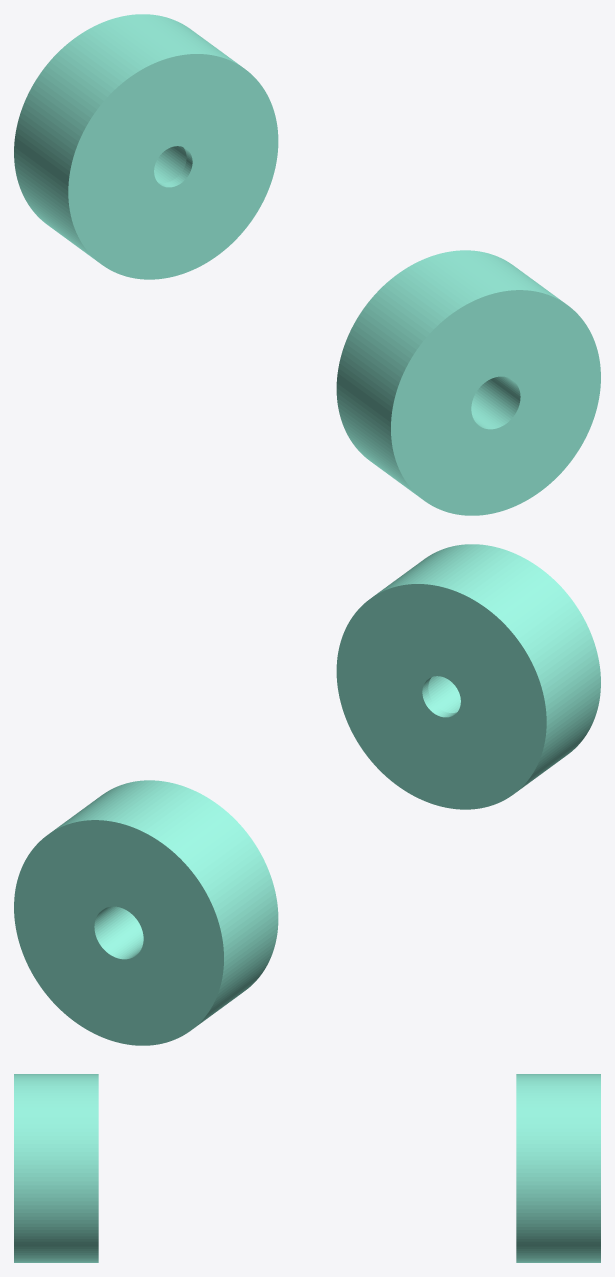
File: Lar-HEC.gltf
3 renders of one model, top to bottom at view 1: azimuth 30°, elevation 25°; view 2: azimuth 150°, elevation 25°; view 3: azimuth 270°, elevation 25°, orthographic. The views are drawn at different scales.
Visible parts, largest first — view 1: _06410B78; view 2: _06410B78; view 3: _06410B78.
Boxes of the visible parts, bbox=[...] form: _06410B78: bbox=[14, 14, 600, 515]; _06410B78: bbox=[14, 544, 600, 1045]; _06410B78: bbox=[14, 1074, 600, 1262].
Bounding box in the file's own units: 4.06 × 4.06 × 12.62.
